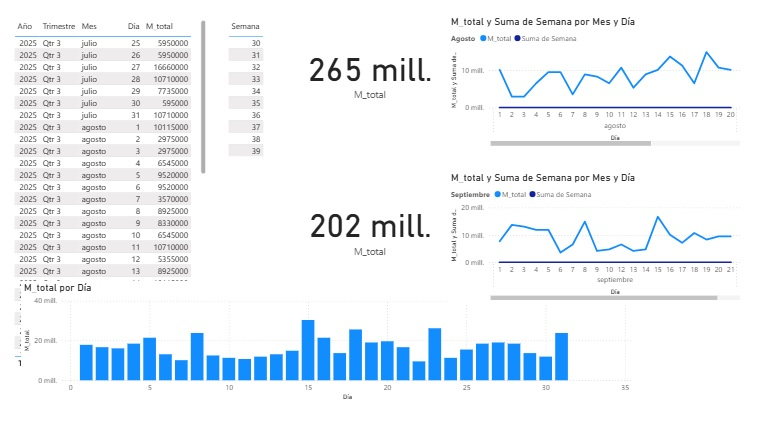

The page's visual inventory and layout, read from the dashboard file:
{"tool":"powerbi","page":{"name":"Página 1","canvas":[1280,720],"ordinal":0},"visuals":[{"type":"tableEx","fields":{"Values":["ventas.fecha_venta.Variación.Jerarquía de fechas.Año","ventas.fecha_venta.Variación.Jerarquía de fechas.Trimestre","ventas.fecha_venta.Variación.Jerarquía de fechas.Mes","ventas.fecha_venta.Variación.Jerarquía de fechas.Día","T_Ventas.M_total"]},"box":[20.2,34.6,329.8,590.4],"z":0},{"type":"columnChart","fields":{"Category":["ventas.fecha_venta.Variación.Jerarquía de fechas.Día"],"Y":["T_Ventas.M_total"]},"box":[36,475.2,1023.8,204.5],"z":1000},{"type":"tableEx","fields":{"Values":["ventas.Semana"]},"box":[375.8,34.6,123.8,241.9],"z":2000},{"type":"lineChart","fields":{"Y":["T_Ventas.M_total","Sum(ventas.Semana)"],"Category":["ventas.fecha_venta.Variación.Jerarquía de fechas.Mes","ventas.fecha_venta.Variación.Jerarquía de fechas.Día"]},"box":[748.8,290.9,492.5,220.3],"z":3000},{"type":"lineChart","fields":{"Y":["T_Ventas.M_total","Sum(ventas.Semana)"],"Category":["ventas.fecha_venta.Variación.Jerarquía de fechas.Mes","ventas.fecha_venta.Variación.Jerarquía de fechas.Día"]},"box":[748.8,32,492.4,222.6],"z":4000},{"type":"card","fields":{"Values":["T_Ventas.M_total"]},"box":[499.2,315.4,236.1,143.3],"z":4001},{"type":"card","fields":{"Values":["T_Ventas.M_total"]},"box":[499.2,47.2,236.1,158.5],"z":4002}]}

Visuals, with their boxes in screenshot pixels (x1, y1, x2, y2), scaled from the page's 1280x720 canvas onto the 762x421 screenshot:
tableEx - ventas.fecha_venta.Variación.Jerarquía de fechas.Año x ventas.fecha_venta.Variación.Jerarquía de fechas.Trimestre: crop(12, 20, 208, 365)
columnChart - ventas.fecha_venta.Variación.Jerarquía de fechas.Día x T_Ventas.M_total: crop(21, 278, 631, 397)
tableEx - ventas.Semana: crop(224, 20, 297, 162)
lineChart - T_Ventas.M_total x Sum(ventas.Semana): crop(446, 170, 739, 299)
lineChart - T_Ventas.M_total x Sum(ventas.Semana): crop(446, 19, 739, 149)
card - T_Ventas.M_total: crop(297, 184, 438, 268)
card - T_Ventas.M_total: crop(297, 28, 438, 120)
